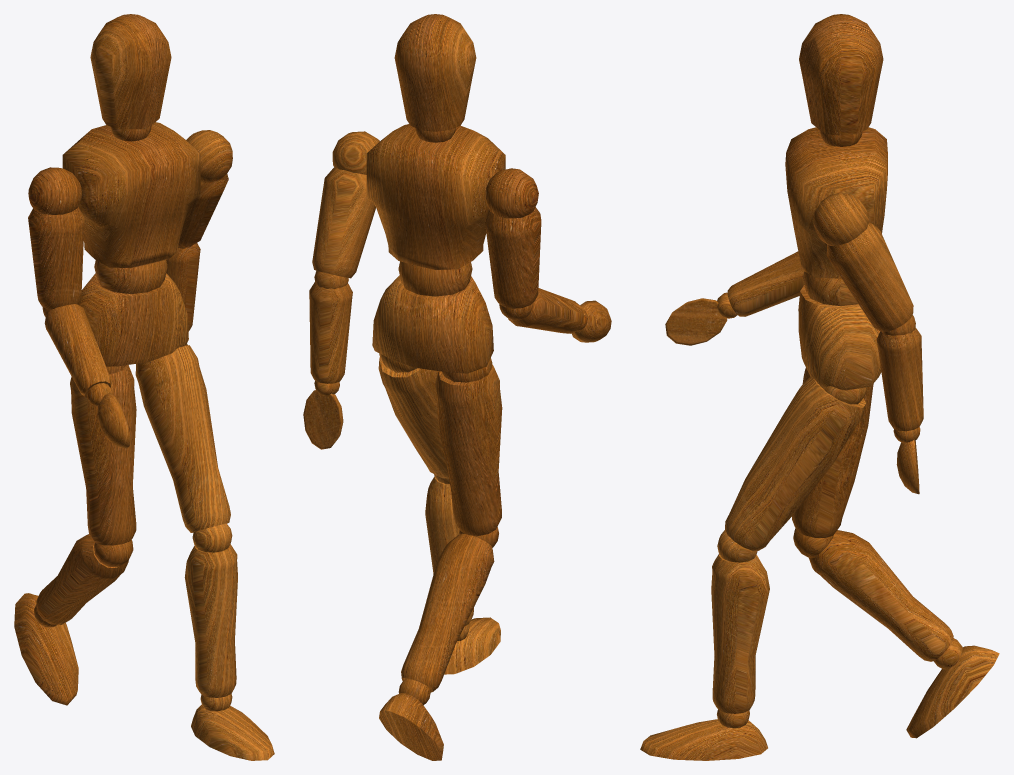
Rendered from dummy_obj_4.obj.
3 renders of one model, left to right at view 1: azimuth 30°, elevation 25°; view 2: azimuth 150°, elevation 25°; view 3: azimuth 270°, elevation 25°, orthographic. The views are drawn at different scales.
Parts seen in each view (by area): view 1: dummy_hips3_dummy_belly_dummy_torso, dummy_hips3_dummy_lpelvis_dummy_lupleg, dummy_hips3_dummy_belly_dummy_torso_dummy_neck_dummy_headq, dummy_hips3_dummy_rpelvis_dummy_rupleg, dummy_hips3, dummy_hips3_dummy_lpelvis_dummy_lupleg_dummy_lknee_dummy_lleg, dummy_hips3_dummy_belly_dummy_torso_dummy_rshoulder_dummy_rarm, dummy_hips3_dummy_rpelvis_dummy_rupleg_dummy_rknee_dummy_rleg_d, dummy_hips3_dummy_rpelvis_dummy_rupleg_dummy_rknee_dummy_rleg, dummy_hips3_dummy_belly_dummy_torso_dummy_rshoulder_dummy_r.001, dummy_hips3_dummy_lpelvis_dummy_lupleg_dummy_lknee_dummy_ll.000, dummy_hips3_dummy_belly_dummy_torso_dummy_rshoulder (+7 smaller); view 2: dummy_hips3_dummy_belly_dummy_torso, dummy_hips3, dummy_hips3_dummy_rpelvis_dummy_rupleg, dummy_hips3_dummy_belly_dummy_torso_dummy_neck_dummy_headq, dummy_hips3_dummy_rpelvis_dummy_rupleg_dummy_rknee_dummy_rleg, dummy_hips3_dummy_belly_dummy_torso_dummy_lshoulder_dummy_larm, dummy_hips3_dummy_belly_dummy_torso_dummy_rshoulder_dummy_rarm, dummy_hips3_dummy_lpelvis_dummy_lupleg, dummy_hips3_dummy_belly_dummy_torso_dummy_lshoulder_dummy_l.000, dummy_hips3_dummy_rpelvis_dummy_rupleg_dummy_rknee_dummy_rleg_d, dummy_hips3_dummy_belly_dummy_torso_dummy_rshoulder, dummy_hips3_dummy_lpelvis_dummy_lupleg_dummy_lknee_dummy_lleg (+6 smaller); view 3: dummy_hips3_dummy_lpelvis_dummy_lupleg, dummy_hips3_dummy_belly_dummy_torso, dummy_hips3_dummy_belly_dummy_torso_dummy_neck_dummy_headq, dummy_hips3_dummy_rpelvis_dummy_rupleg_dummy_rknee_dummy_rleg, dummy_hips3_dummy_lpelvis_dummy_lupleg_dummy_lknee_dummy_lleg, dummy_hips3, dummy_hips3_dummy_belly_dummy_torso_dummy_lshoulder_dummy_larm, dummy_hips3_dummy_rpelvis_dummy_rupleg, dummy_hips3_dummy_lpelvis_dummy_lupleg_dummy_lknee_dummy_ll.000, dummy_hips3_dummy_belly_dummy_torso_dummy_lshoulder_dummy_l.000, dummy_hips3_dummy_rpelvis_dummy_rupleg_dummy_rknee_dummy_rleg_d, dummy_hips3_dummy_belly_dummy_torso_dummy_rshoulder_dummy_r.001 (+6 smaller).
Part boxes in pixels (left/top/right/bottom): dummy_hips3_dummy_belly_dummy_torso: left=62, top=122, right=200, bottom=268; dummy_hips3_dummy_lpelvis_dummy_lupleg: left=135, top=345, right=230, bottom=532; dummy_hips3_dummy_belly_dummy_torso_dummy_neck_dummy_headq: left=90, top=14, right=171, bottom=129; dummy_hips3_dummy_rpelvis_dummy_rupleg: left=70, top=365, right=136, bottom=545; dummy_hips3: left=78, top=273, right=188, bottom=366; dummy_hips3_dummy_lpelvis_dummy_lupleg_dummy_lknee_dummy_lleg: left=184, top=544, right=237, bottom=697; dummy_hips3_dummy_belly_dummy_torso_dummy_rshoulder_dummy_rarm: left=28, top=206, right=84, bottom=309; dummy_hips3_dummy_rpelvis_dummy_rupleg_dummy_rknee_dummy_rleg_d: left=14, top=593, right=78, bottom=705; dummy_hips3_dummy_rpelvis_dummy_rupleg_dummy_rknee_dummy_rleg: left=36, top=534, right=128, bottom=624; dummy_hips3_dummy_belly_dummy_torso_dummy_rshoulder_dummy_r.001: left=44, top=304, right=111, bottom=397; dummy_hips3_dummy_lpelvis_dummy_lupleg_dummy_lknee_dummy_ll.000: left=191, top=704, right=274, bottom=760; dummy_hips3_dummy_belly_dummy_torso_dummy_rshoulder: left=28, top=167, right=81, bottom=214; dummy_hips3_dummy_belly_dummy_torso: left=366, top=124, right=505, bottom=269; dummy_hips3: left=372, top=275, right=493, bottom=373; dummy_hips3_dummy_rpelvis_dummy_rupleg: left=435, top=364, right=502, bottom=535; dummy_hips3_dummy_belly_dummy_torso_dummy_neck_dummy_headq: left=394, top=14, right=476, bottom=131; dummy_hips3_dummy_rpelvis_dummy_rupleg_dummy_rknee_dummy_rleg: left=401, top=533, right=494, bottom=692; dummy_hips3_dummy_belly_dummy_torso_dummy_lshoulder_dummy_larm: left=312, top=167, right=375, bottom=278; dummy_hips3_dummy_belly_dummy_torso_dummy_rshoulder_dummy_rarm: left=484, top=207, right=541, bottom=308; dummy_hips3_dummy_lpelvis_dummy_lupleg: left=378, top=357, right=448, bottom=478; dummy_hips3_dummy_belly_dummy_torso_dummy_lshoulder_dummy_l.000: left=309, top=281, right=352, bottom=383; dummy_hips3_dummy_rpelvis_dummy_rupleg_dummy_rknee_dummy_rleg_d: left=379, top=693, right=443, bottom=760; dummy_hips3_dummy_belly_dummy_torso_dummy_rshoulder: left=485, top=168, right=538, bottom=218; dummy_hips3_dummy_lpelvis_dummy_lupleg_dummy_lknee_dummy_lleg: left=425, top=476, right=473, bottom=625; dummy_hips3_dummy_lpelvis_dummy_lupleg: left=725, top=376, right=865, bottom=550; dummy_hips3_dummy_belly_dummy_torso: left=785, top=127, right=887, bottom=278; dummy_hips3_dummy_belly_dummy_torso_dummy_neck_dummy_headq: left=799, top=14, right=883, bottom=135; dummy_hips3_dummy_rpelvis_dummy_rupleg_dummy_rknee_dummy_rleg: left=809, top=530, right=953, bottom=661; dummy_hips3_dummy_lpelvis_dummy_lupleg_dummy_lknee_dummy_lleg: left=711, top=554, right=769, bottom=713; dummy_hips3: left=798, top=285, right=881, bottom=390; dummy_hips3_dummy_belly_dummy_torso_dummy_lshoulder_dummy_larm: left=826, top=222, right=913, bottom=331; dummy_hips3_dummy_rpelvis_dummy_rupleg: left=792, top=368, right=873, bottom=537; dummy_hips3_dummy_lpelvis_dummy_lupleg_dummy_lknee_dummy_ll.000: left=640, top=719, right=767, bottom=760; dummy_hips3_dummy_belly_dummy_torso_dummy_lshoulder_dummy_l.000: left=876, top=327, right=923, bottom=431; dummy_hips3_dummy_rpelvis_dummy_rupleg_dummy_rknee_dummy_rleg_d: left=906, top=645, right=999, bottom=738; dummy_hips3_dummy_belly_dummy_torso_dummy_rshoulder_dummy_r.001: left=727, top=251, right=804, bottom=316.
Bounding box in the file's own units: 52.56 × 176 × 78.11.
1 material, 1 textured.
